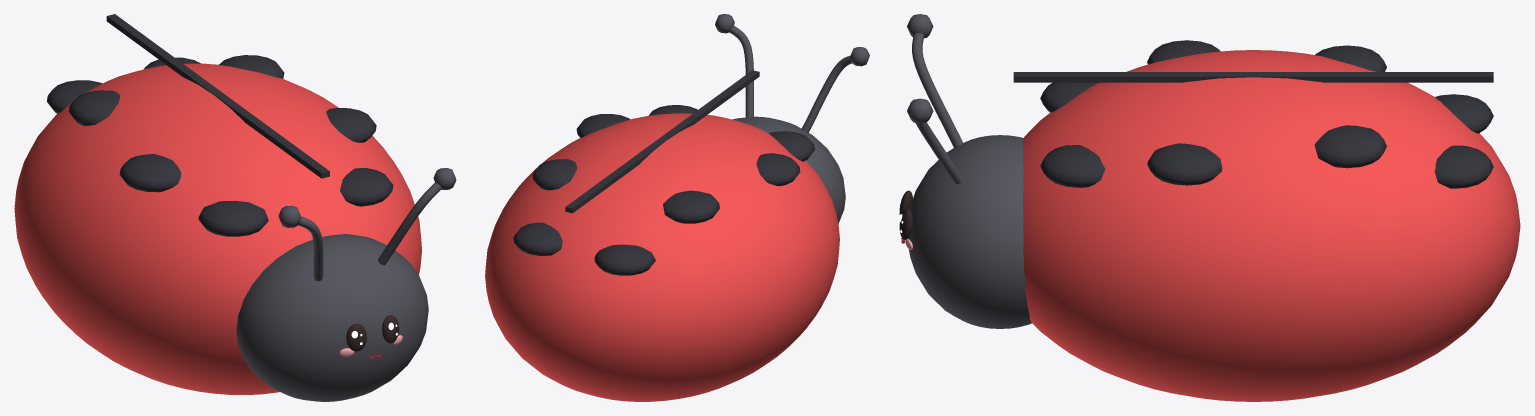
File: E25_Ladybug_Rock.glb
The picture shows the model from 3 angles, left to right: view 1: azimuth 30°, elevation 25°; view 2: azimuth 150°, elevation 25°; view 3: azimuth 270°, elevation 25°; orthographic projection. The views are drawn at different scales.
Visible parts, largest first — view 1: E25_Ladybug_Rock_Mesh, E25_Eye_L; view 2: E25_Ladybug_Rock_Mesh; view 3: E25_Ladybug_Rock_Mesh.
Part boxes in pixels (box(x1,y1,x2,y2)): E25_Ladybug_Rock_Mesh: box(14, 14, 456, 401); E25_Eye_L: box(346, 323, 366, 351); E25_Ladybug_Rock_Mesh: box(485, 14, 869, 401); E25_Ladybug_Rock_Mesh: box(907, 14, 1520, 401).
Size of the model in its own units: 3.2 by 2.65 by 4.66.
